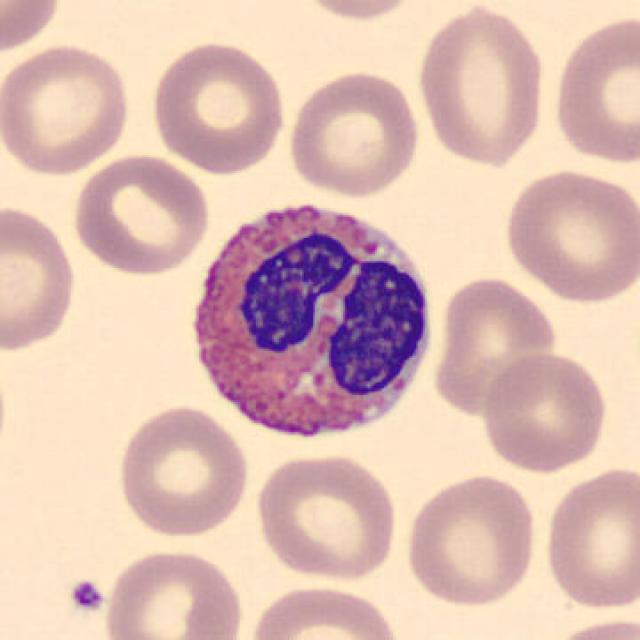Eosinophil: (176, 185, 441, 459)
Platelets: (66, 575, 108, 617)
RBC: (412, 2, 550, 169), (250, 449, 402, 584), (146, 37, 288, 176), (400, 471, 540, 610), (112, 402, 252, 541), (500, 164, 638, 305), (430, 273, 560, 418), (0, 39, 135, 178), (284, 67, 425, 199), (70, 152, 214, 278), (476, 347, 612, 476), (540, 462, 638, 612), (548, 11, 638, 168), (100, 545, 247, 640), (0, 199, 80, 356), (245, 582, 406, 640), (0, 0, 66, 58), (288, 0, 427, 25), (545, 613, 638, 640)
